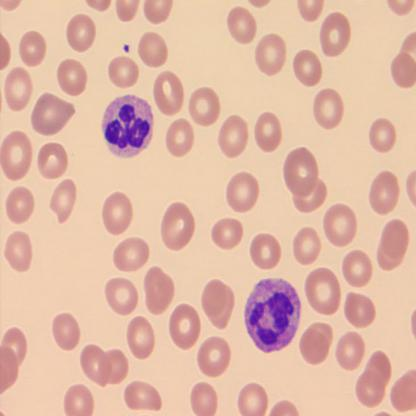Segmented neutrophil: (242, 275, 302, 355), (99, 92, 157, 158)
